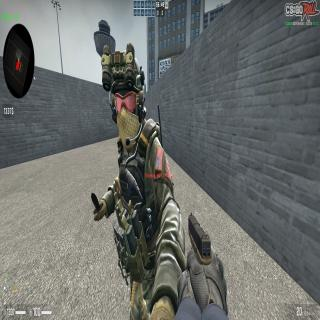CT-Body: (94, 47, 178, 320)
CT-Head: (106, 54, 146, 154)
